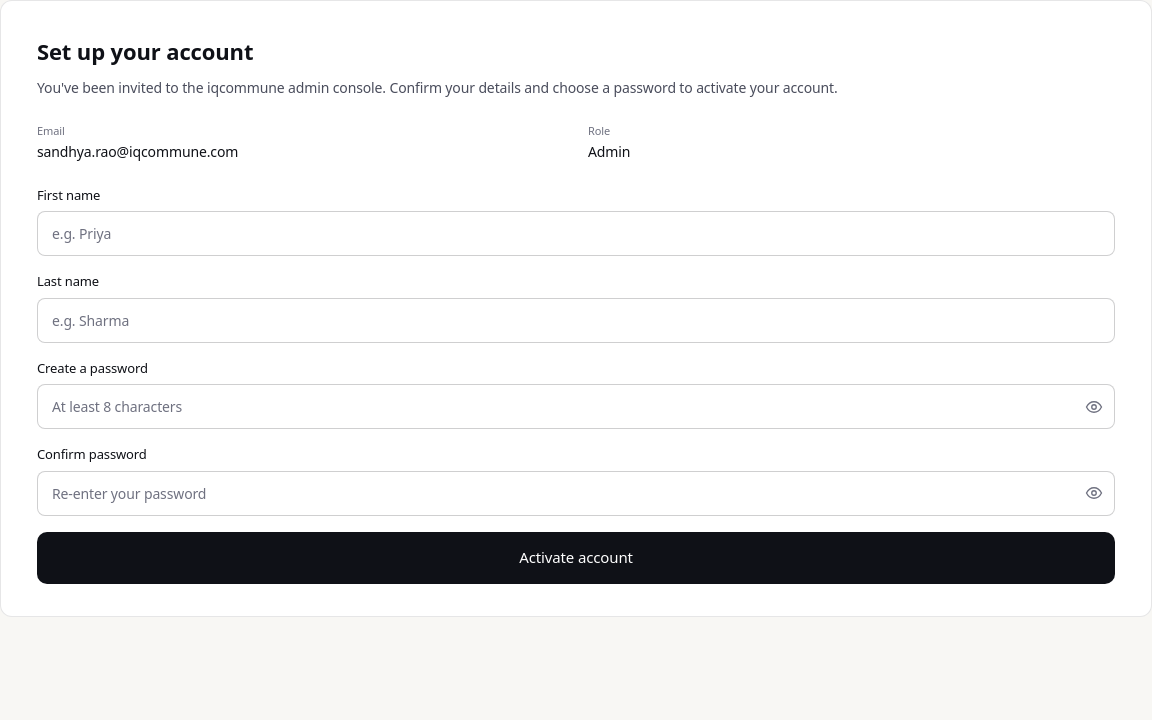
Scenario: AccountSetupForm › rejects a missing last name
Type "Priya" into the field labelled "First name".
click(576, 234); type("Priya")  # box 37,211 -> 1115,256
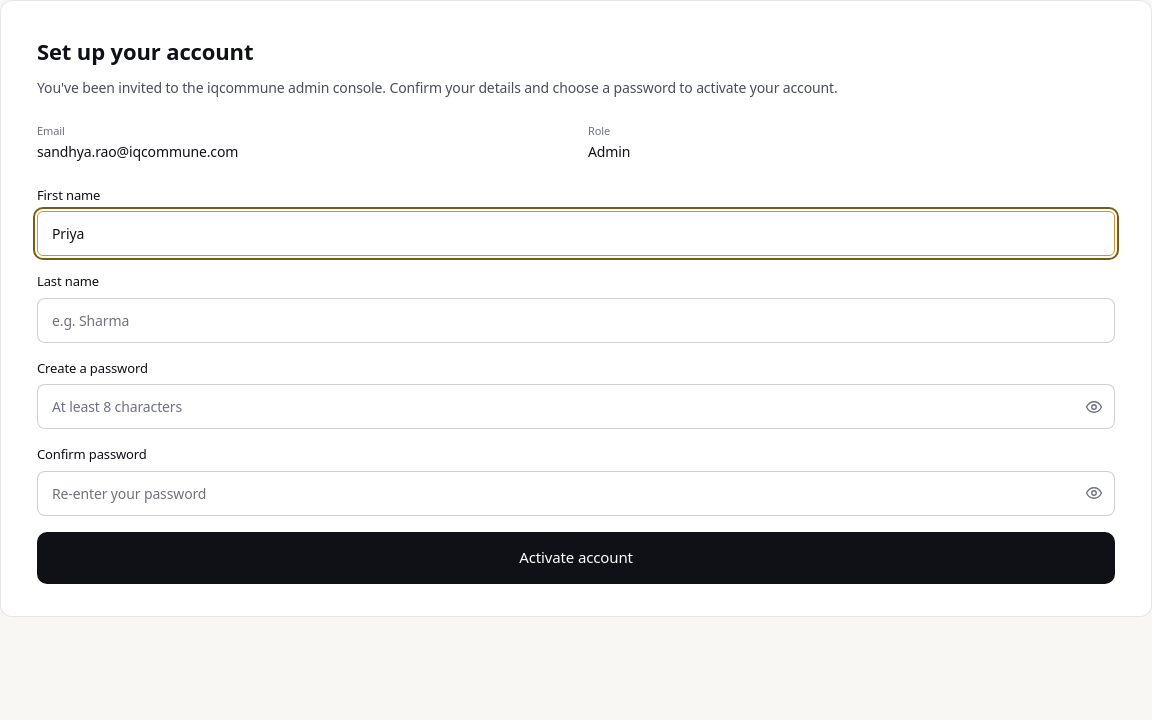
Click the button "Activate account".
click(576, 558)  # box 37,532 -> 1115,584
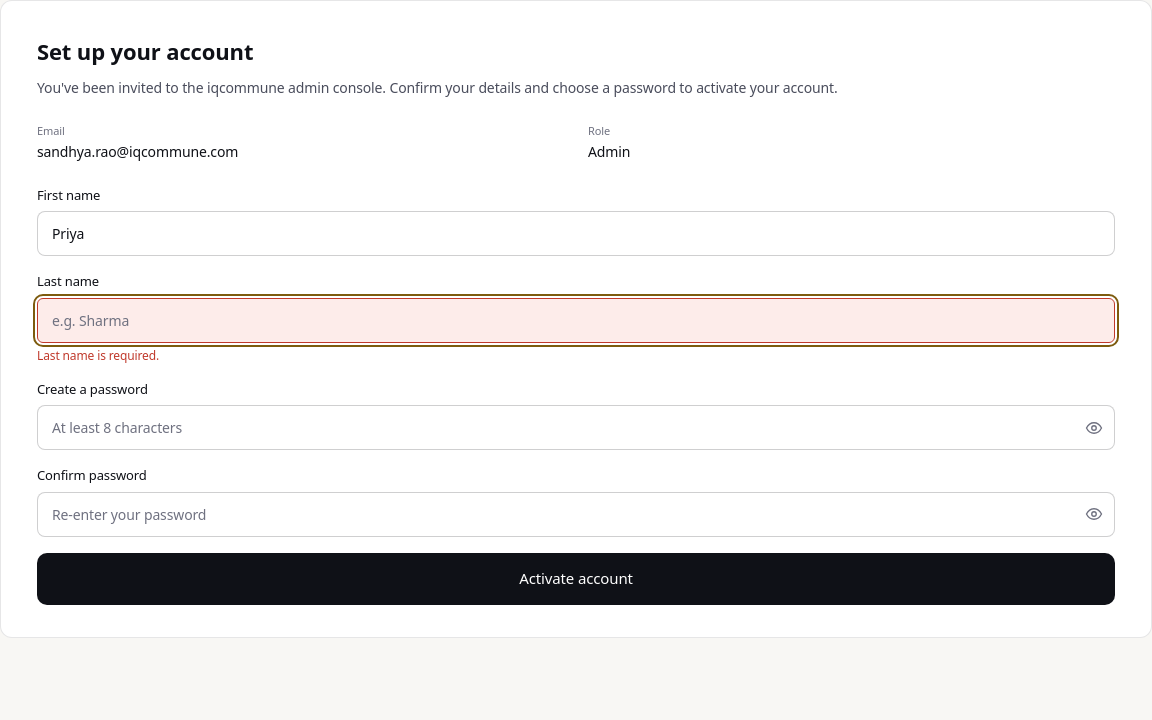
Now the text "Last name is required." is shown, box 37,347 -> 159,364
